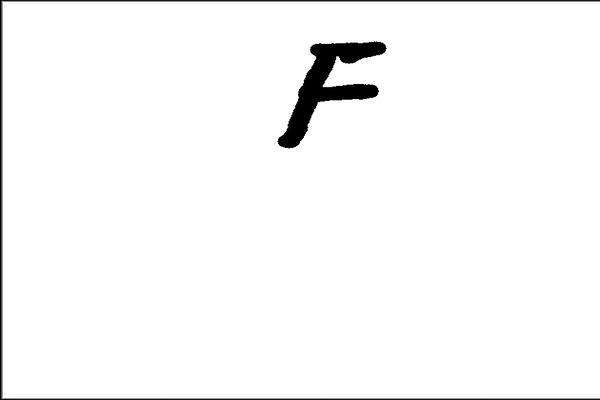F: (271, 36, 389, 151)
